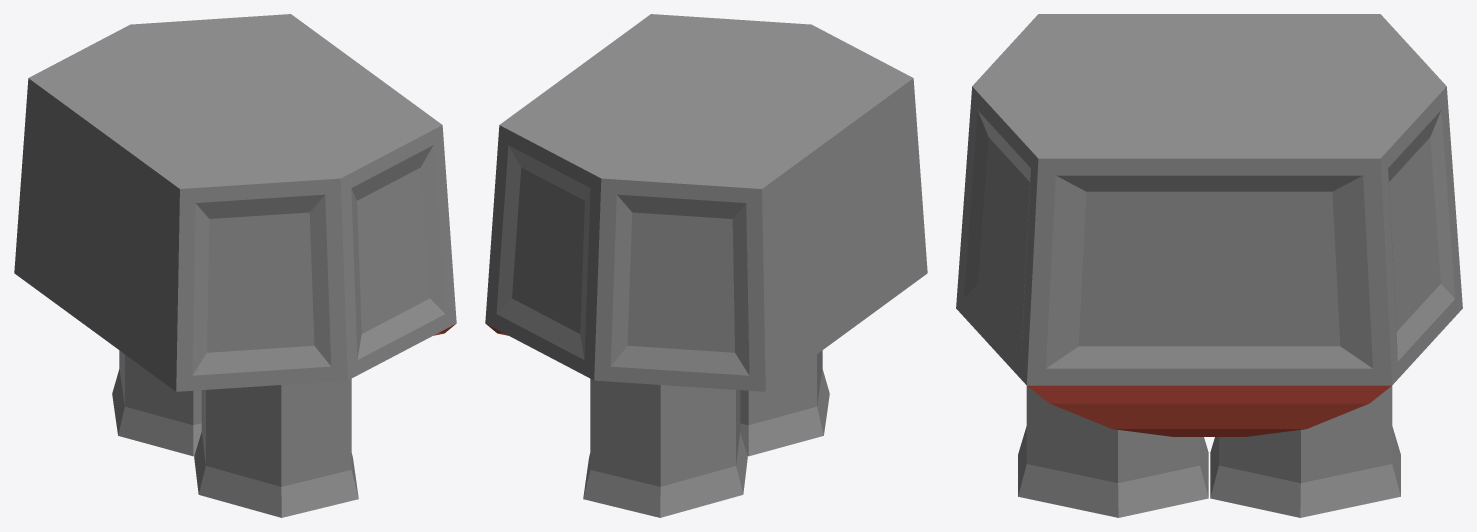
Rendered from StoneLegs.fbx.
The picture shows the model from 3 angles, left to right: view 1: azimuth 30°, elevation 25°; view 2: azimuth 150°, elevation 25°; view 3: azimuth 270°, elevation 25°; orthographic projection. The views are drawn at different scales.
Visible parts, largest first — view 1: Leg Armour Stone; view 2: Leg Armour Stone; view 3: Leg Armour Stone.
Boxes of the visible parts, x1,y1,x2,y2 form: Leg Armour Stone: [14, 14, 456, 517]; Leg Armour Stone: [485, 14, 927, 517]; Leg Armour Stone: [956, 14, 1462, 517].
Bounding box in the file's own units: 213 × 250 × 295.
